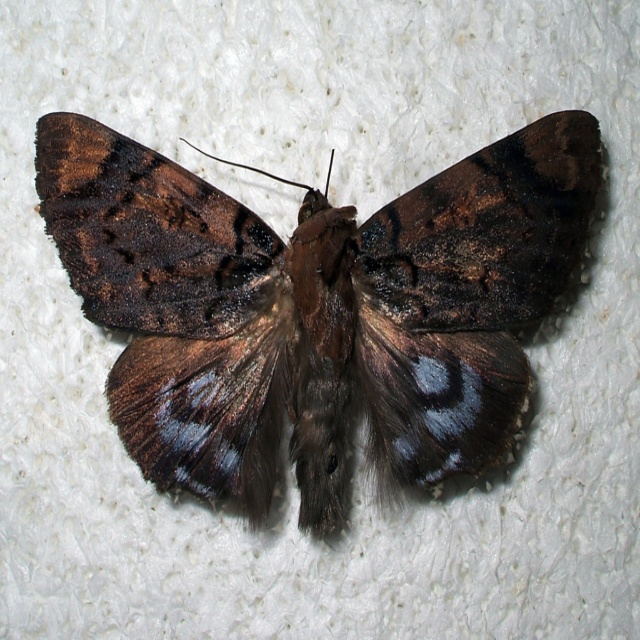Butterfly: (31, 108, 612, 550)
